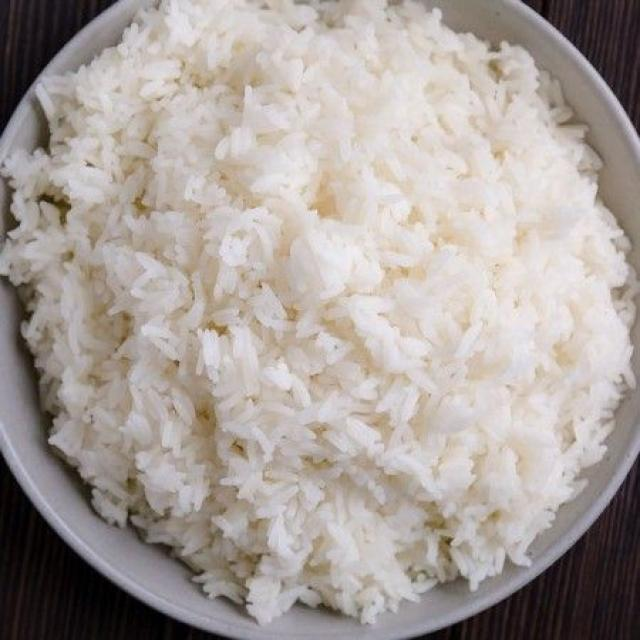nasi_putih: (29, 25, 621, 598)
